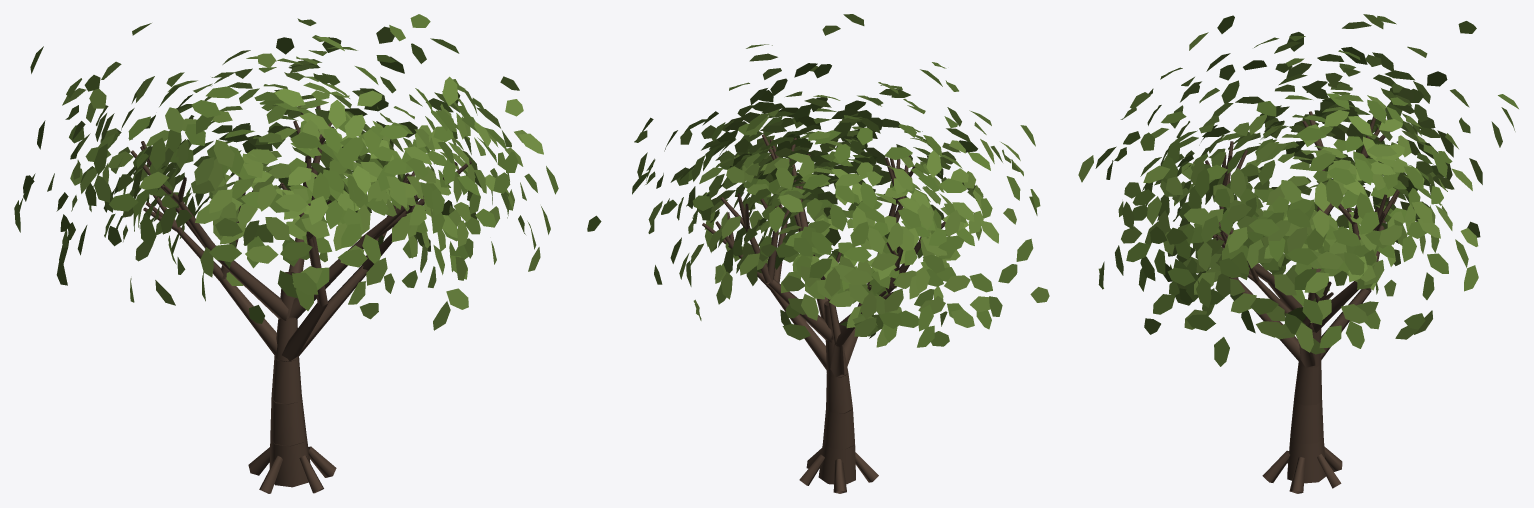
File: apple_2.glb
3 renders of one model, left to right at view 1: azimuth 30°, elevation 25°; view 2: azimuth 150°, elevation 25°; view 3: azimuth 270°, elevation 25°, orthographic. The views are drawn at different scales.
Visible parts, largest first — view 1: apple_2_LOD0; view 2: apple_2_LOD0; view 3: apple_2_LOD0.
Part boxes in pixels (<box>): apple_2_LOD0: <box>14,14,558,493</box>; apple_2_LOD0: <box>587,14,1049,493</box>; apple_2_LOD0: <box>1078,14,1518,493</box>.
Size of what is drawn, in the model's own units: 1.36 by 1.26 by 1.19.
